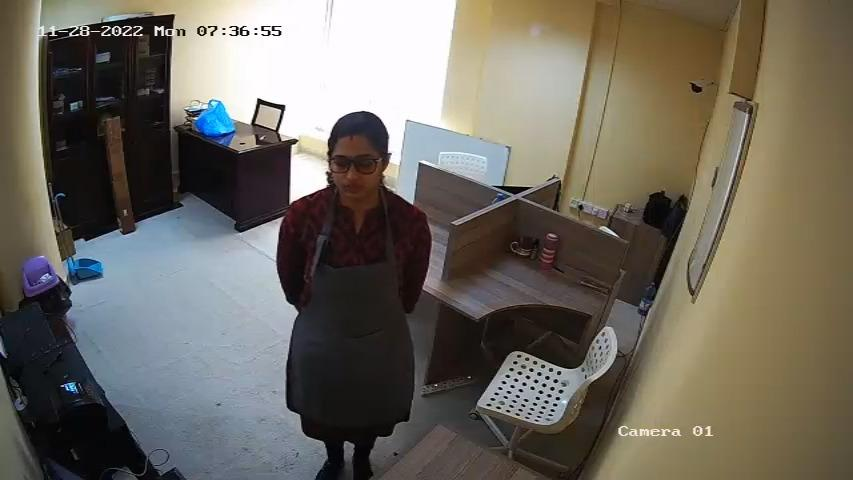apron: (288, 200, 411, 417)
